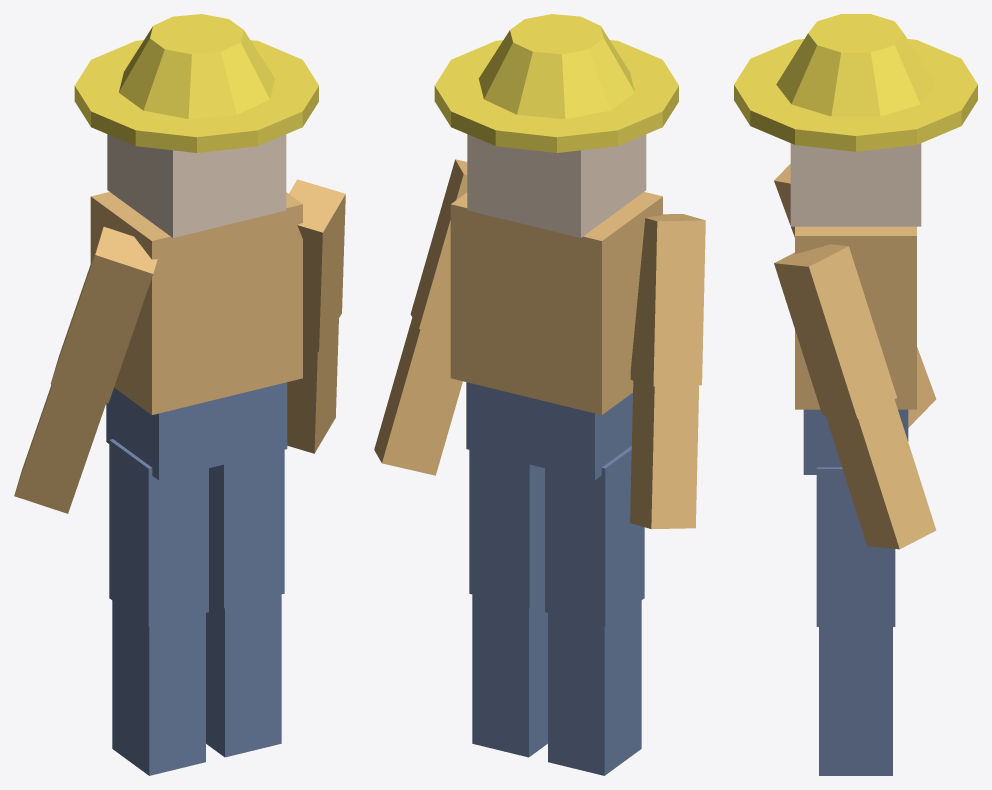
File: worker_for_mixamo_upload.fbx
The picture shows the model from 3 angles, left to right: view 1: azimuth 30°, elevation 25°; view 2: azimuth 150°, elevation 25°; view 3: azimuth 270°, elevation 25°; orthographic projection.
Parts seen in each view (by area): view 1: Worker_Upload; view 2: Worker_Upload; view 3: Worker_Upload.
Boxes of the visible parts, box(x1,y1,x2,y2) form: Worker_Upload: box(14, 14, 345, 775); Worker_Upload: box(374, 14, 705, 775); Worker_Upload: box(734, 14, 977, 775).
Size of the model in its own units: 85.1 by 180 by 56.
